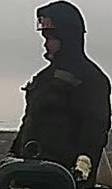gloves: (71, 153, 96, 183)
helmet: (34, 12, 63, 32)
vest: (20, 59, 111, 162)
